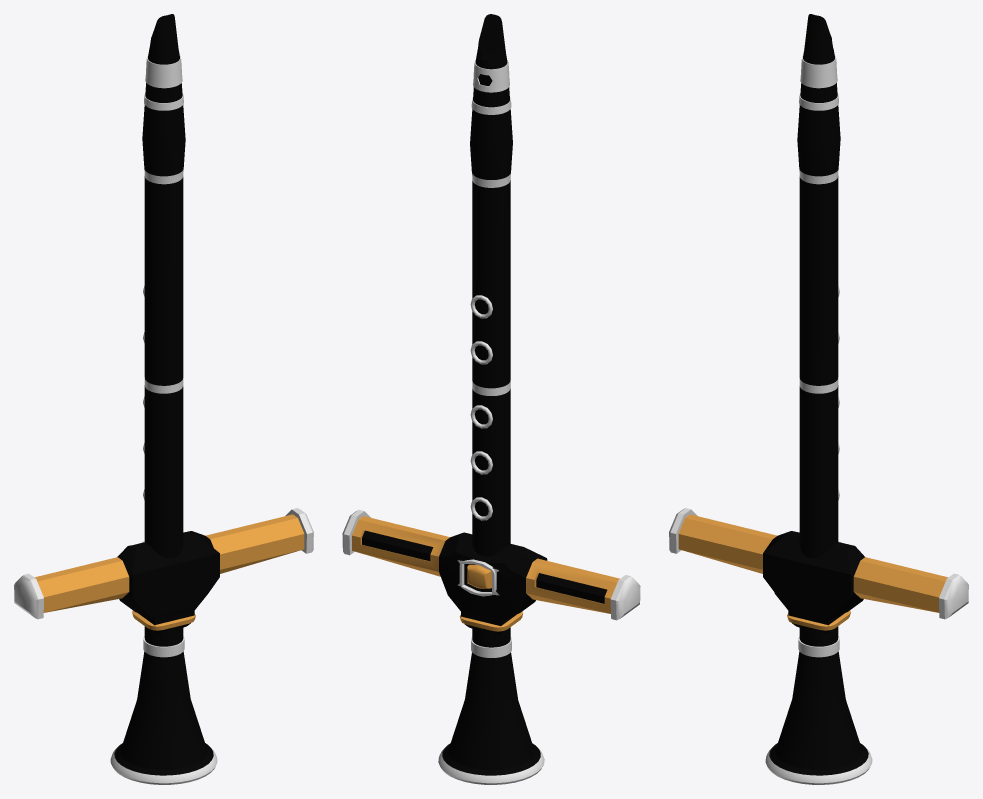
The model's file is Clarinet Sword.fbx.
The picture shows the model from 3 angles, left to right: view 1: azimuth 30°, elevation 25°; view 2: azimuth 150°, elevation 25°; view 3: azimuth 330°, elevation 25°; orthographic projection.
Visible parts, largest first — view 1: Cylinder, Cube; view 2: Cylinder, Cube; view 3: Cylinder, Cube.
Part boxes in pixels (x1,y1,x2,y2): Cylinder: (110, 14, 217, 784); Cube: (14, 508, 313, 633); Cylinder: (438, 14, 544, 784); Cube: (342, 510, 640, 634); Cylinder: (765, 14, 872, 784); Cube: (669, 508, 968, 633).
Bounding box in the file's own units: 194 × 489 × 63.26.
